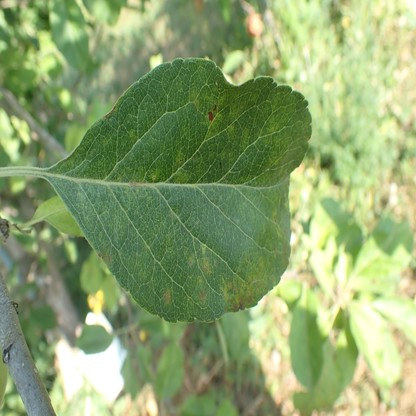scab: (55, 63, 312, 312)
